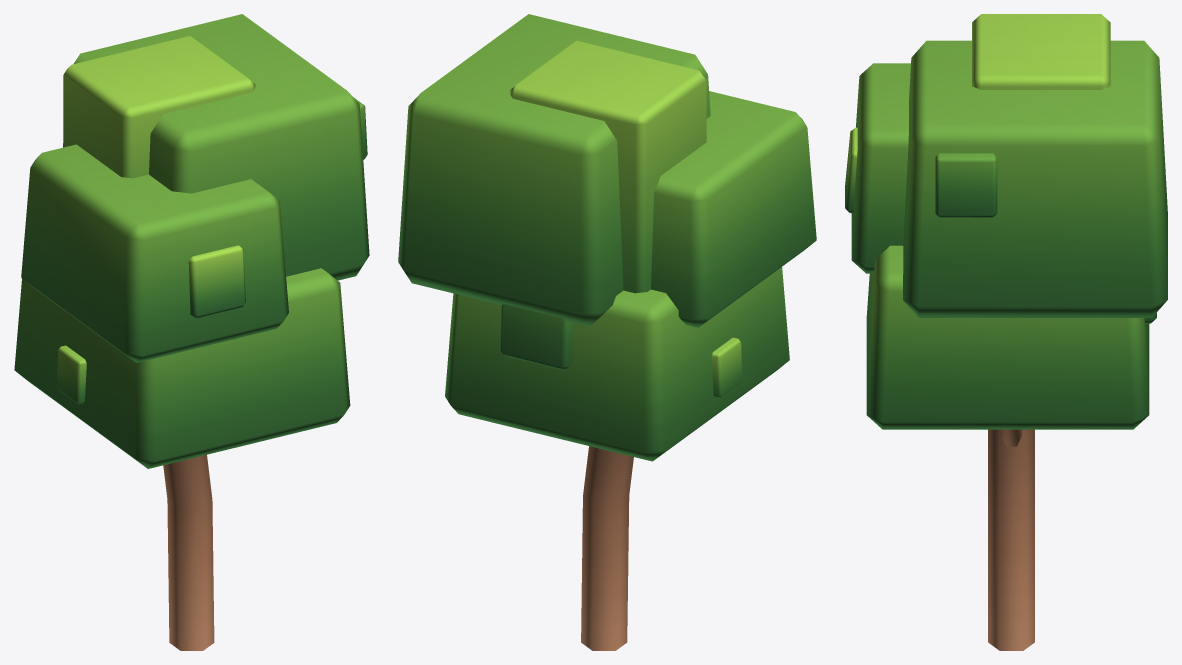
The model's file is Tree03.glb.
The picture shows the model from 3 angles, left to right: view 1: azimuth 30°, elevation 25°; view 2: azimuth 150°, elevation 25°; view 3: azimuth 270°, elevation 25°; orthographic projection. The views are drawn at different scales.
Parts seen in each view (by area): view 1: Tree03; view 2: Tree03; view 3: Tree03.
Boxes of the visible parts, box(x1,y1,x2,y2) form: Tree03: box(14, 14, 369, 650); Tree03: box(398, 14, 816, 650); Tree03: box(845, 14, 1167, 650).
Size of what is drawn, in the model's own units: 1.07 by 2.07 by 1.03.
1 material, 1 textured.
